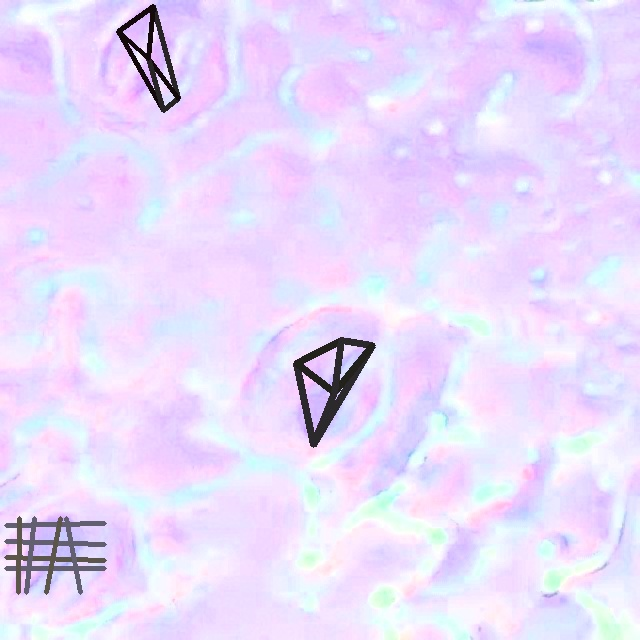open: (294, 337, 375, 446), (4, 517, 106, 594), (116, 4, 179, 111)
